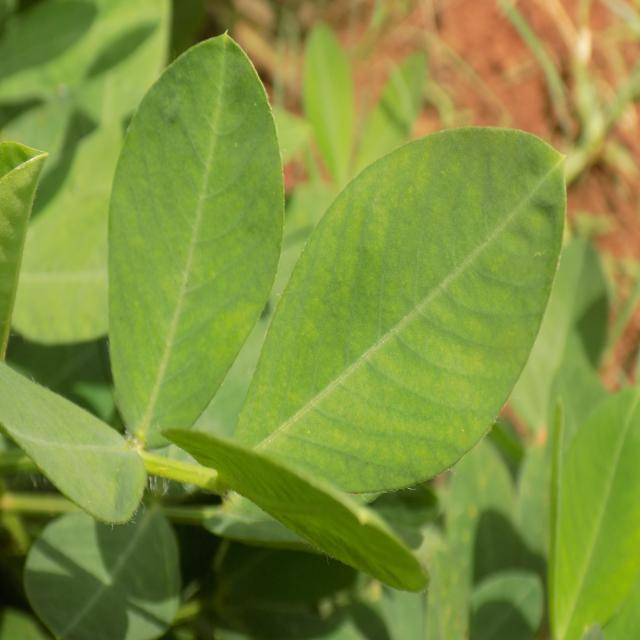Ground nut_healthy: (223, 126, 566, 514), (107, 28, 286, 456)
